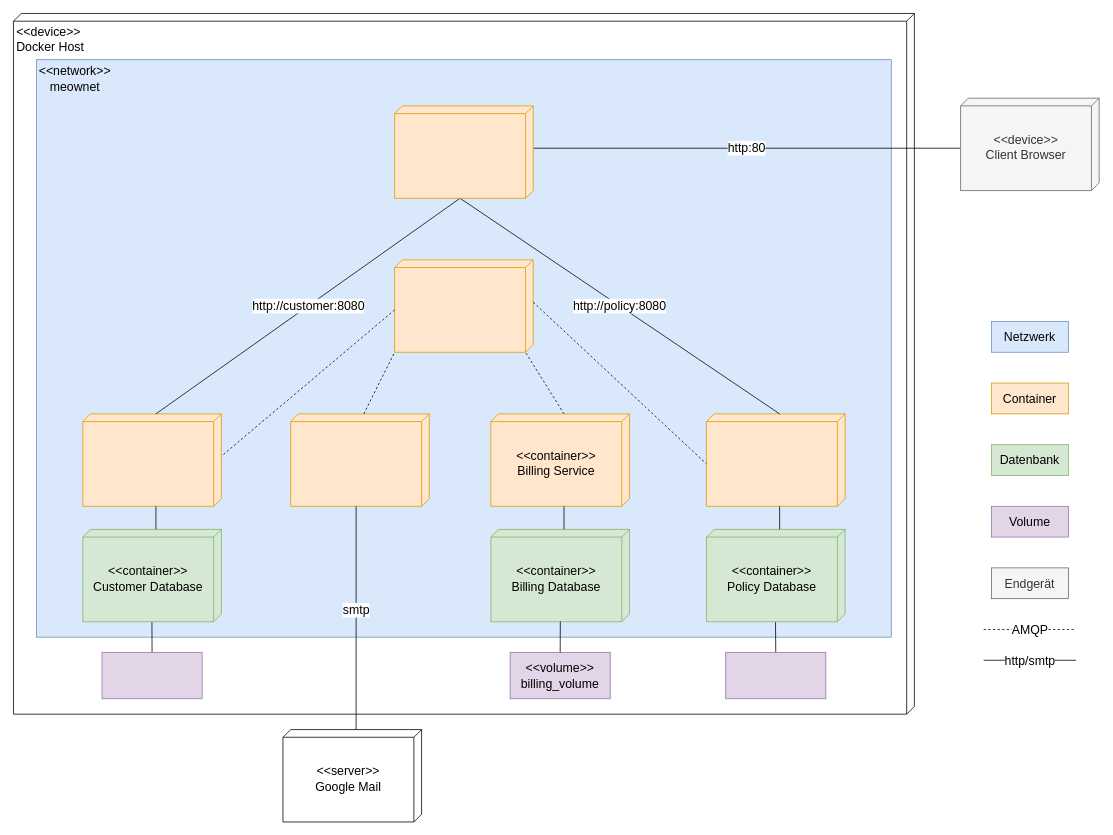
Image size: 1113x835. Some labels were removed from this diagram. Here are the shapes that lost their labels. From the top down, the centre of each, then its label:
At [463,151]: "<<container>> UI Service".
At [463,305]: "<<container>> RabbitMQ Broker".
At [151,459]: "<<container>> Customer Service".
At [359,459]: "<<container>> Notification Service".
At [775,459]: "<<container>> Policy Service".
At [151,675]: "<<volume>> customer_volume".
At [775,675]: "<<volume>> policy_volume".
